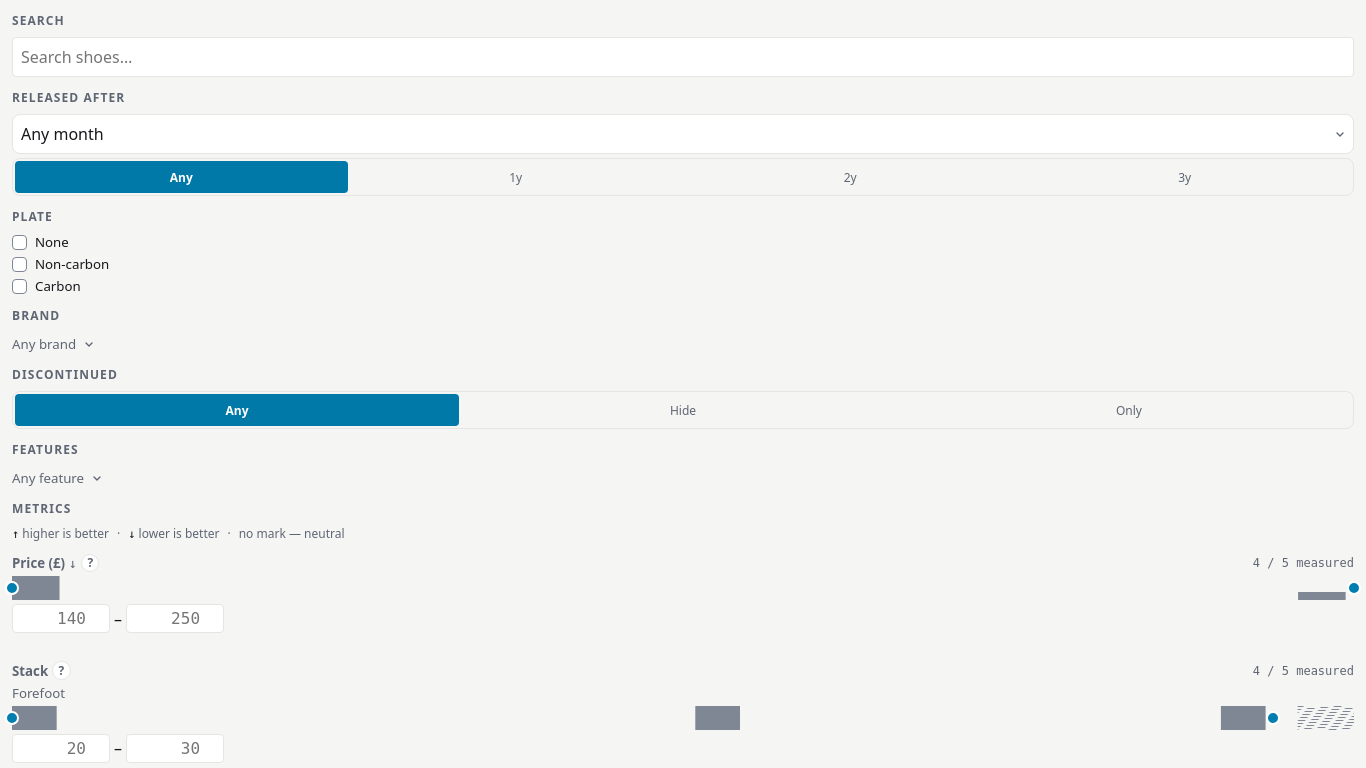
Test: FilterSidebar metric help › explains that Price is MSRP in GBP rather than a current regional offer
Click the button named "Help for Price" at (90, 563), box [81, 554, 100, 572]
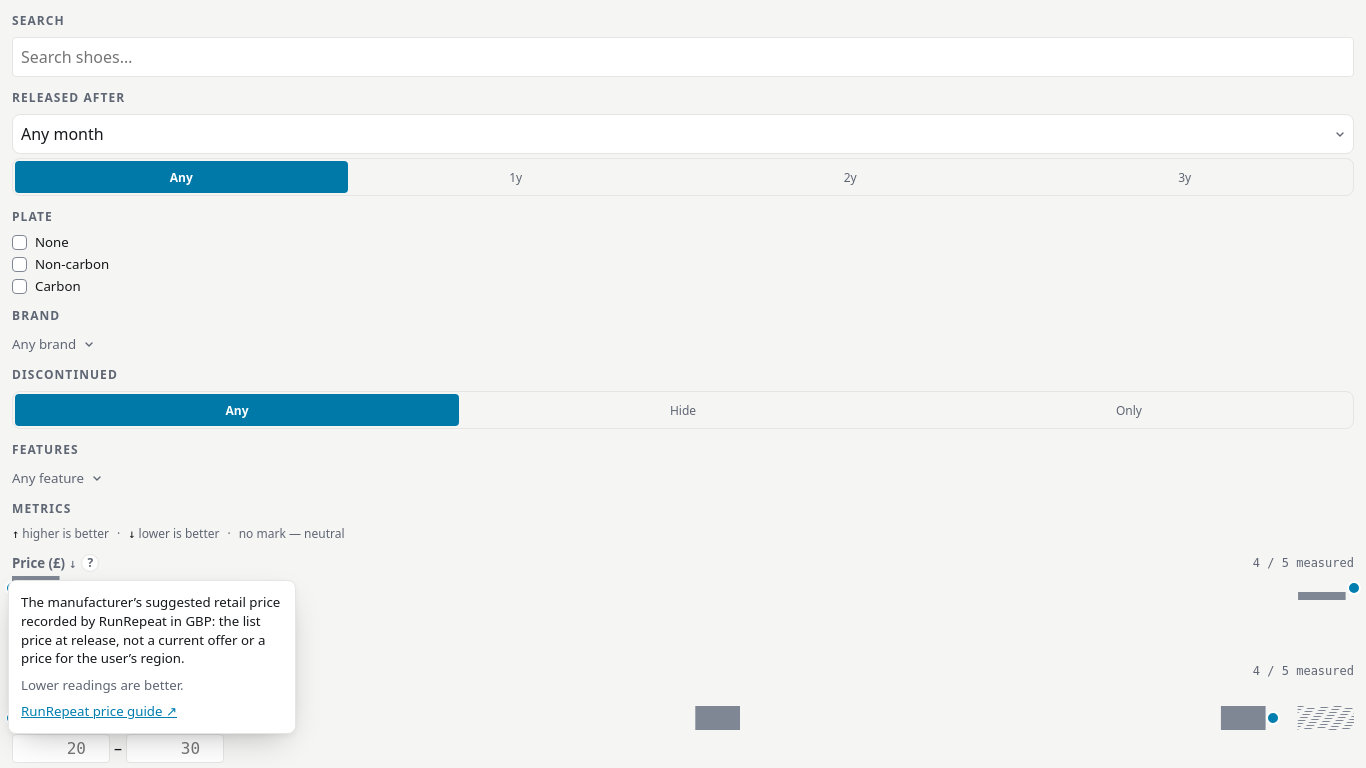
Check: the element named "Price metric help" shows "manufacturer.s suggested retail price", box [21, 593, 280, 667]
Check: the element named "Price metric help" shows "not a current offer or a price for the user.s region", box [21, 593, 280, 667]
